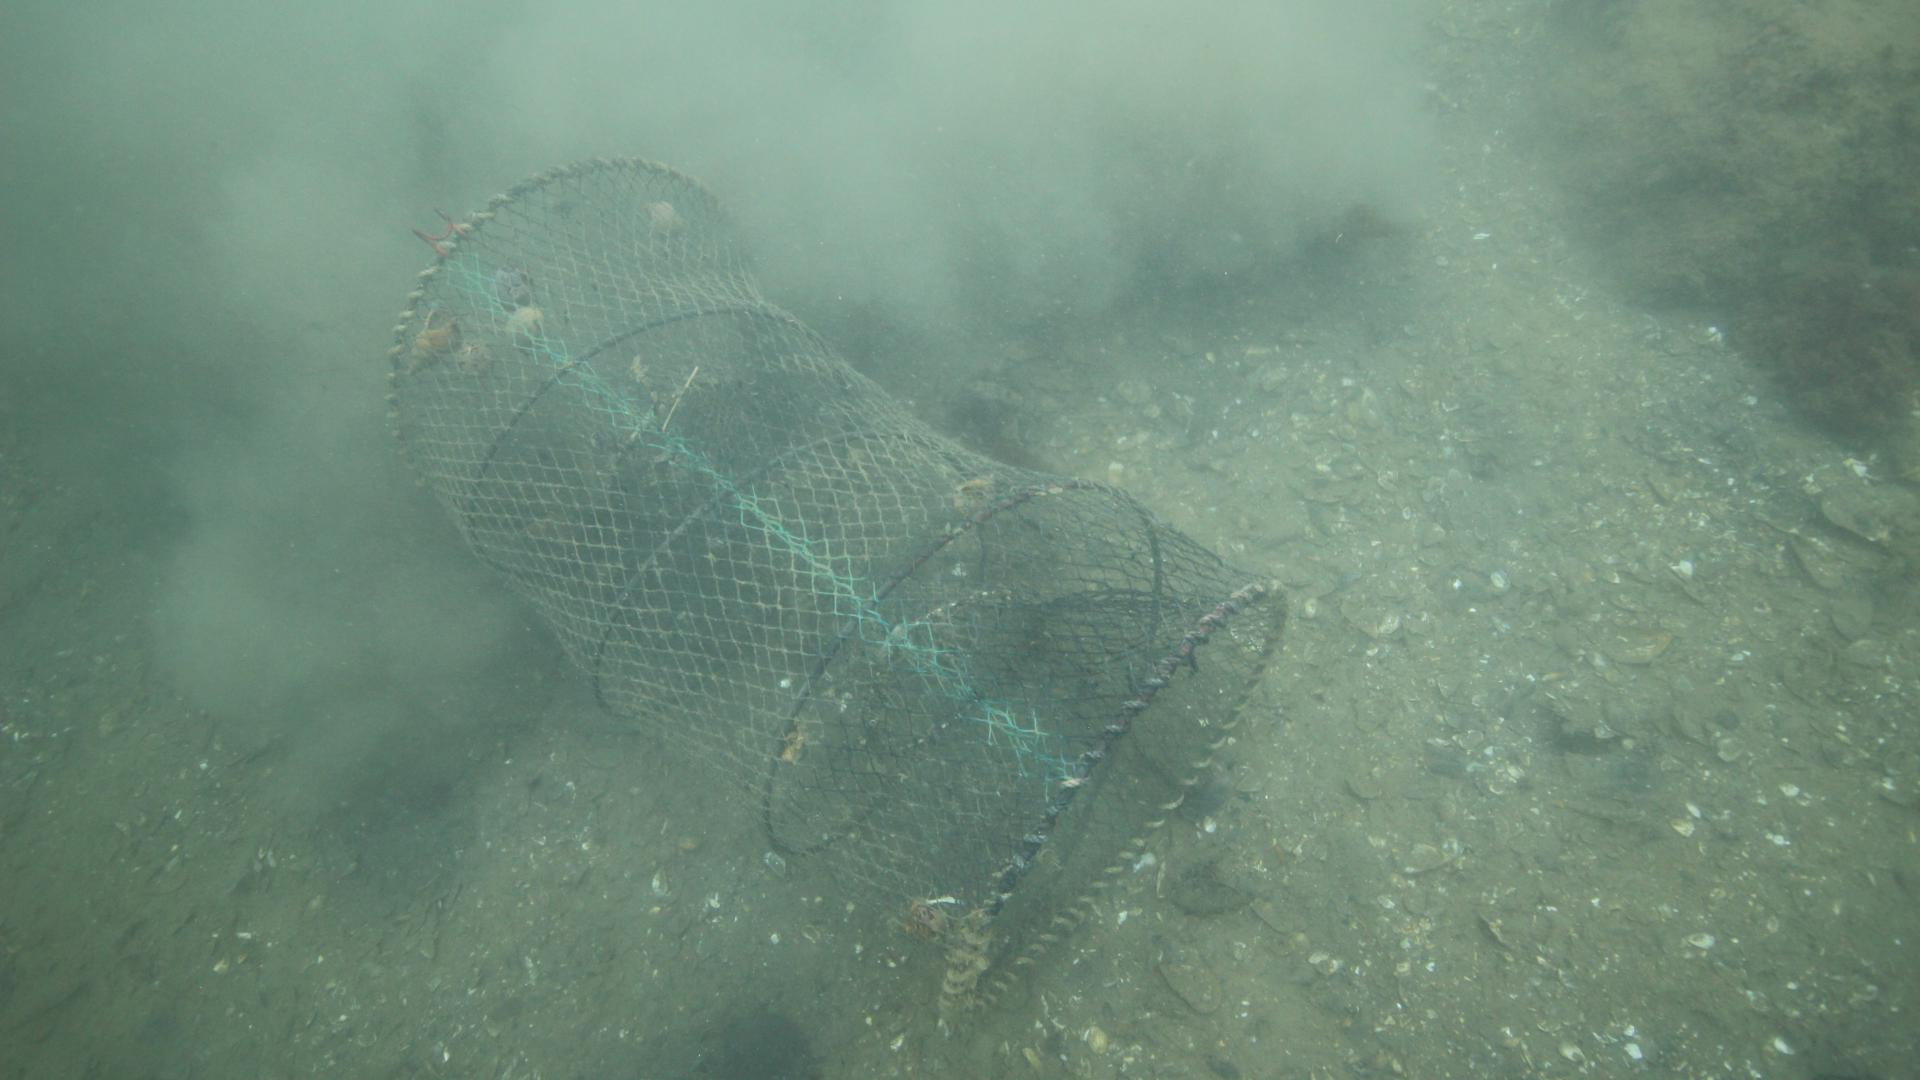spring fish trap: (376, 152, 1291, 1029)
